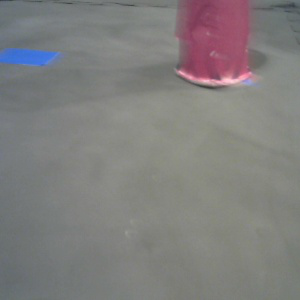Right: (175, 1, 252, 88)
